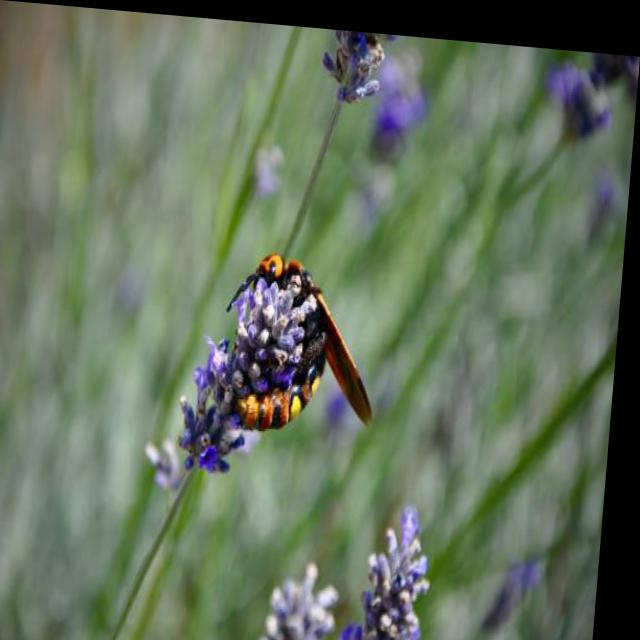Vespa Crabro: (204, 206, 414, 454)
